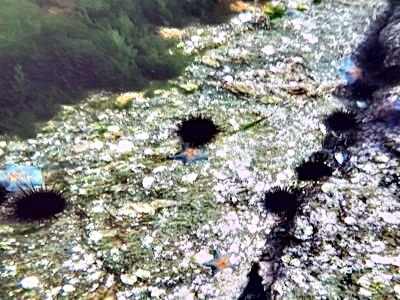urchin: (8, 185, 65, 217), (178, 114, 216, 146), (262, 187, 296, 211), (295, 157, 331, 179), (325, 110, 359, 133)
